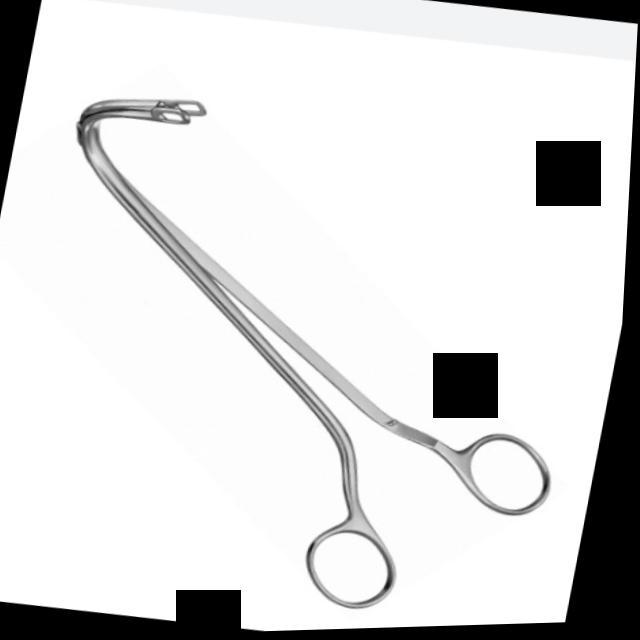Randall: (0, 61, 633, 640)
